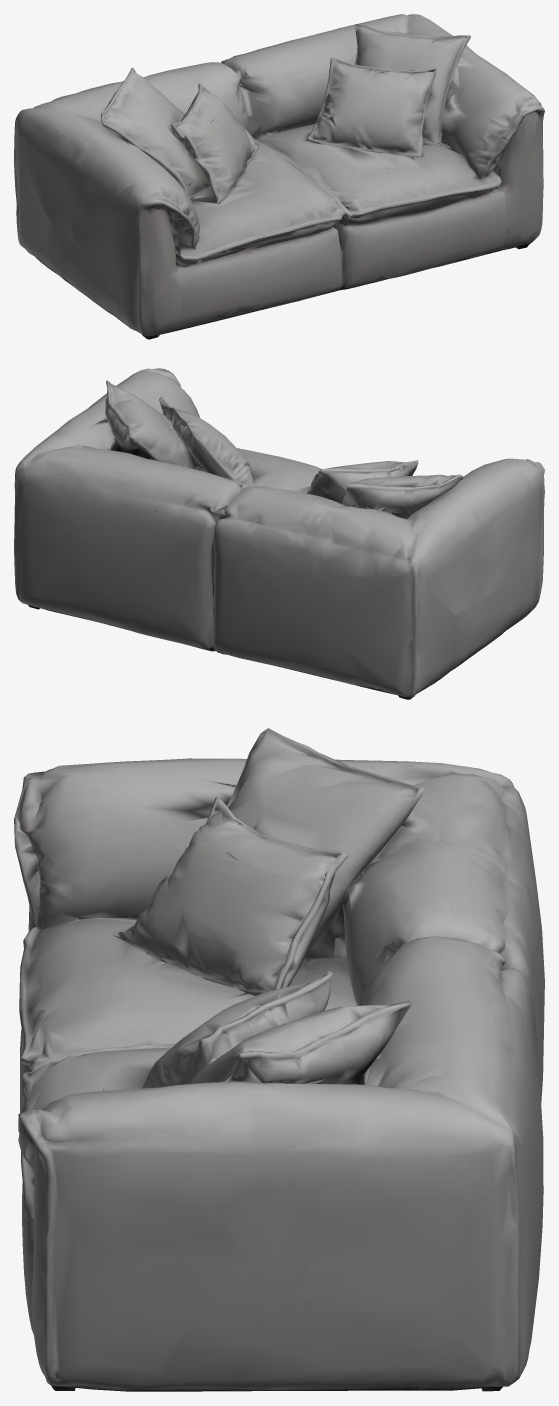
Rendered from 2BxFZe1wguy_ygS6NAIVH.glb.
3 renders of one model, top to bottom at view 1: azimuth 30°, elevation 25°; view 2: azimuth 150°, elevation 25°; view 3: azimuth 270°, elevation 25°, orthographic. The views are drawn at different scales.
Parts seen in each view (by area): view 1: geometry_0; view 2: geometry_0; view 3: geometry_0.
Part boxes in pixels (box(x1,y1,x2,y2)): geometry_0: box(14, 14, 544, 339); geometry_0: box(14, 368, 544, 699); geometry_0: box(14, 728, 544, 1391).
Bounding box in the file's own units: 0.9976 × 0.4152 × 0.5968.
1 material, 1 textured.
